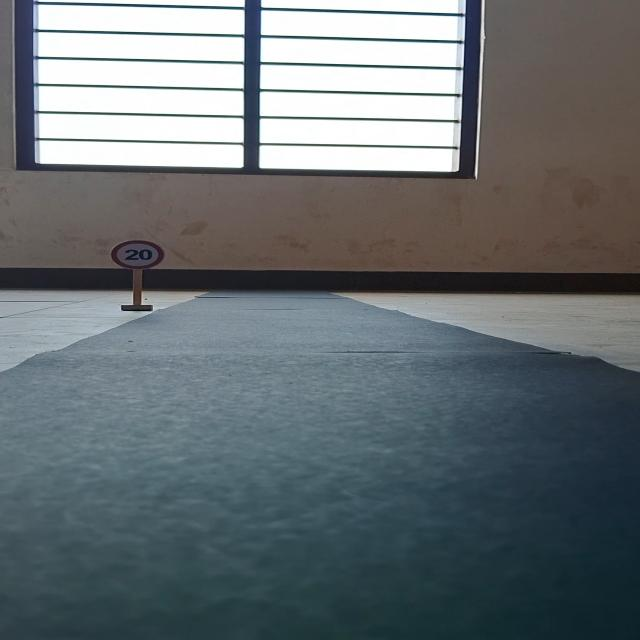Speed20: (107, 237, 169, 271)
